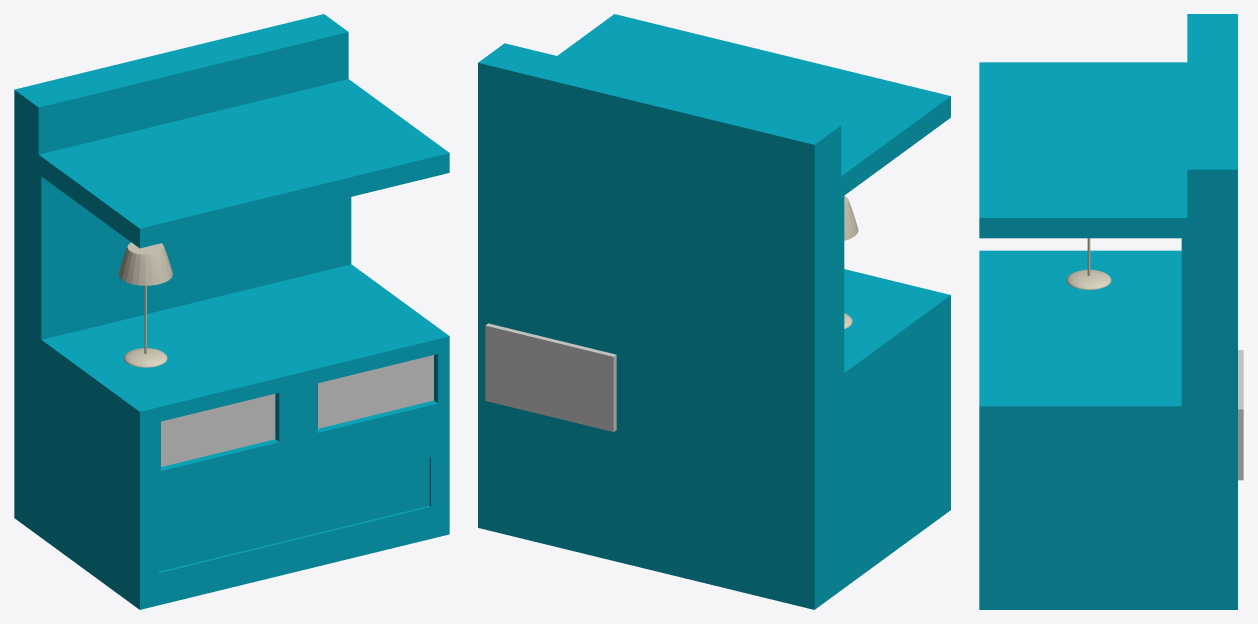
Rendered from Incredible Kasi-Robo.glb.
3 views of the same model, side by side, from view 1: azimuth 30°, elevation 25°; view 2: azimuth 150°, elevation 25°; view 3: azimuth 270°, elevation 25° (orthographic). The views are drawn at different scales.
Visible parts, largest first — view 1: Mesh_Mesh_head_geo.001_lambert2SG.001; view 2: Mesh_Mesh_head_geo.001_lambert2SG.001; view 3: Mesh_Mesh_head_geo.001_lambert2SG.001.
Part boxes in pixels (x1=…): Mesh_Mesh_head_geo.001_lambert2SG.001: x1=14, y1=14, x2=449, y2=609; Mesh_Mesh_head_geo.001_lambert2SG.001: x1=478, y1=14, x2=950, y2=609; Mesh_Mesh_head_geo.001_lambert2SG.001: x1=979, y1=14, x2=1243, y2=609.
Size of the model in its own units: 131 by 173 by 94.
